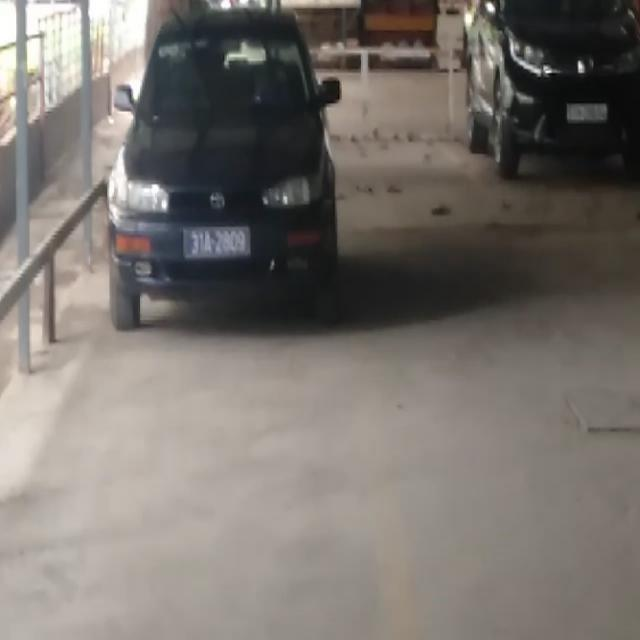bien_xanh: (181, 221, 251, 258)
